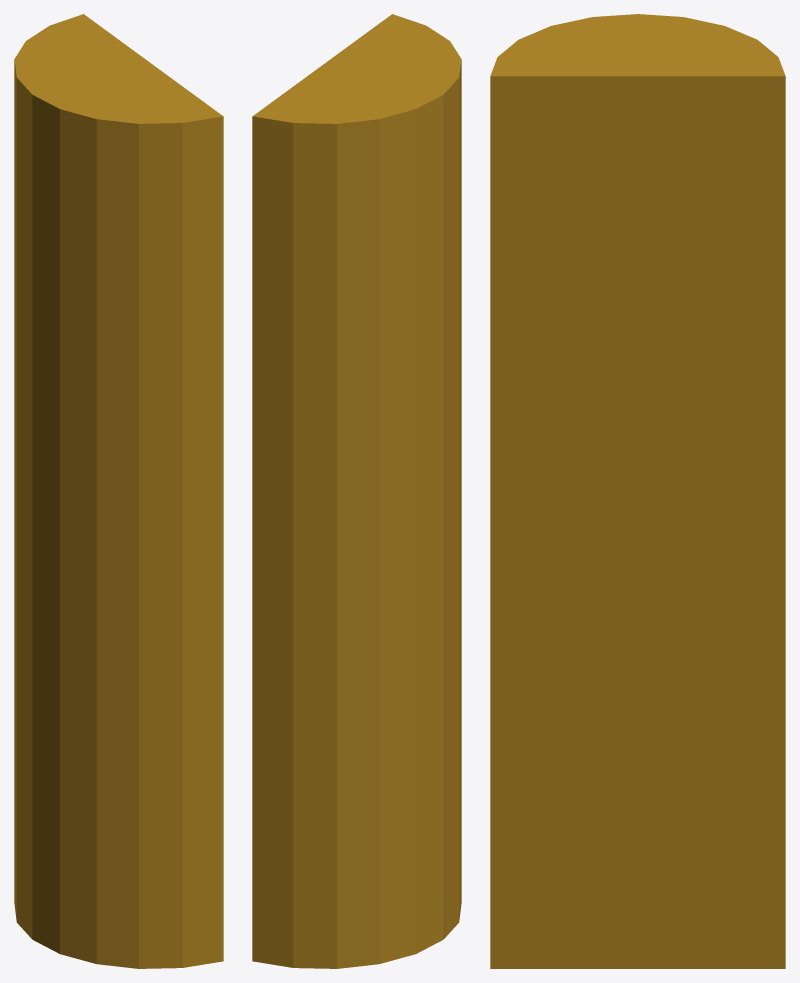
Rendered from Yut.obj.
The picture shows the model from 3 angles, left to right: view 1: azimuth 30°, elevation 25°; view 2: azimuth 150°, elevation 25°; view 3: azimuth 270°, elevation 25°; orthographic projection. The views are drawn at different scales.
Parts seen in each view (by area): view 1: Yut; view 2: Yut; view 3: Yut.
Boxes of the visible parts, left/top/right/bottom form: Yut: left=14, top=14, right=223, bottom=968; Yut: left=252, top=14, right=461, bottom=968; Yut: left=490, top=14, right=785, bottom=968.
Size of the model in its own units: 0.3 by 2 by 0.6.
